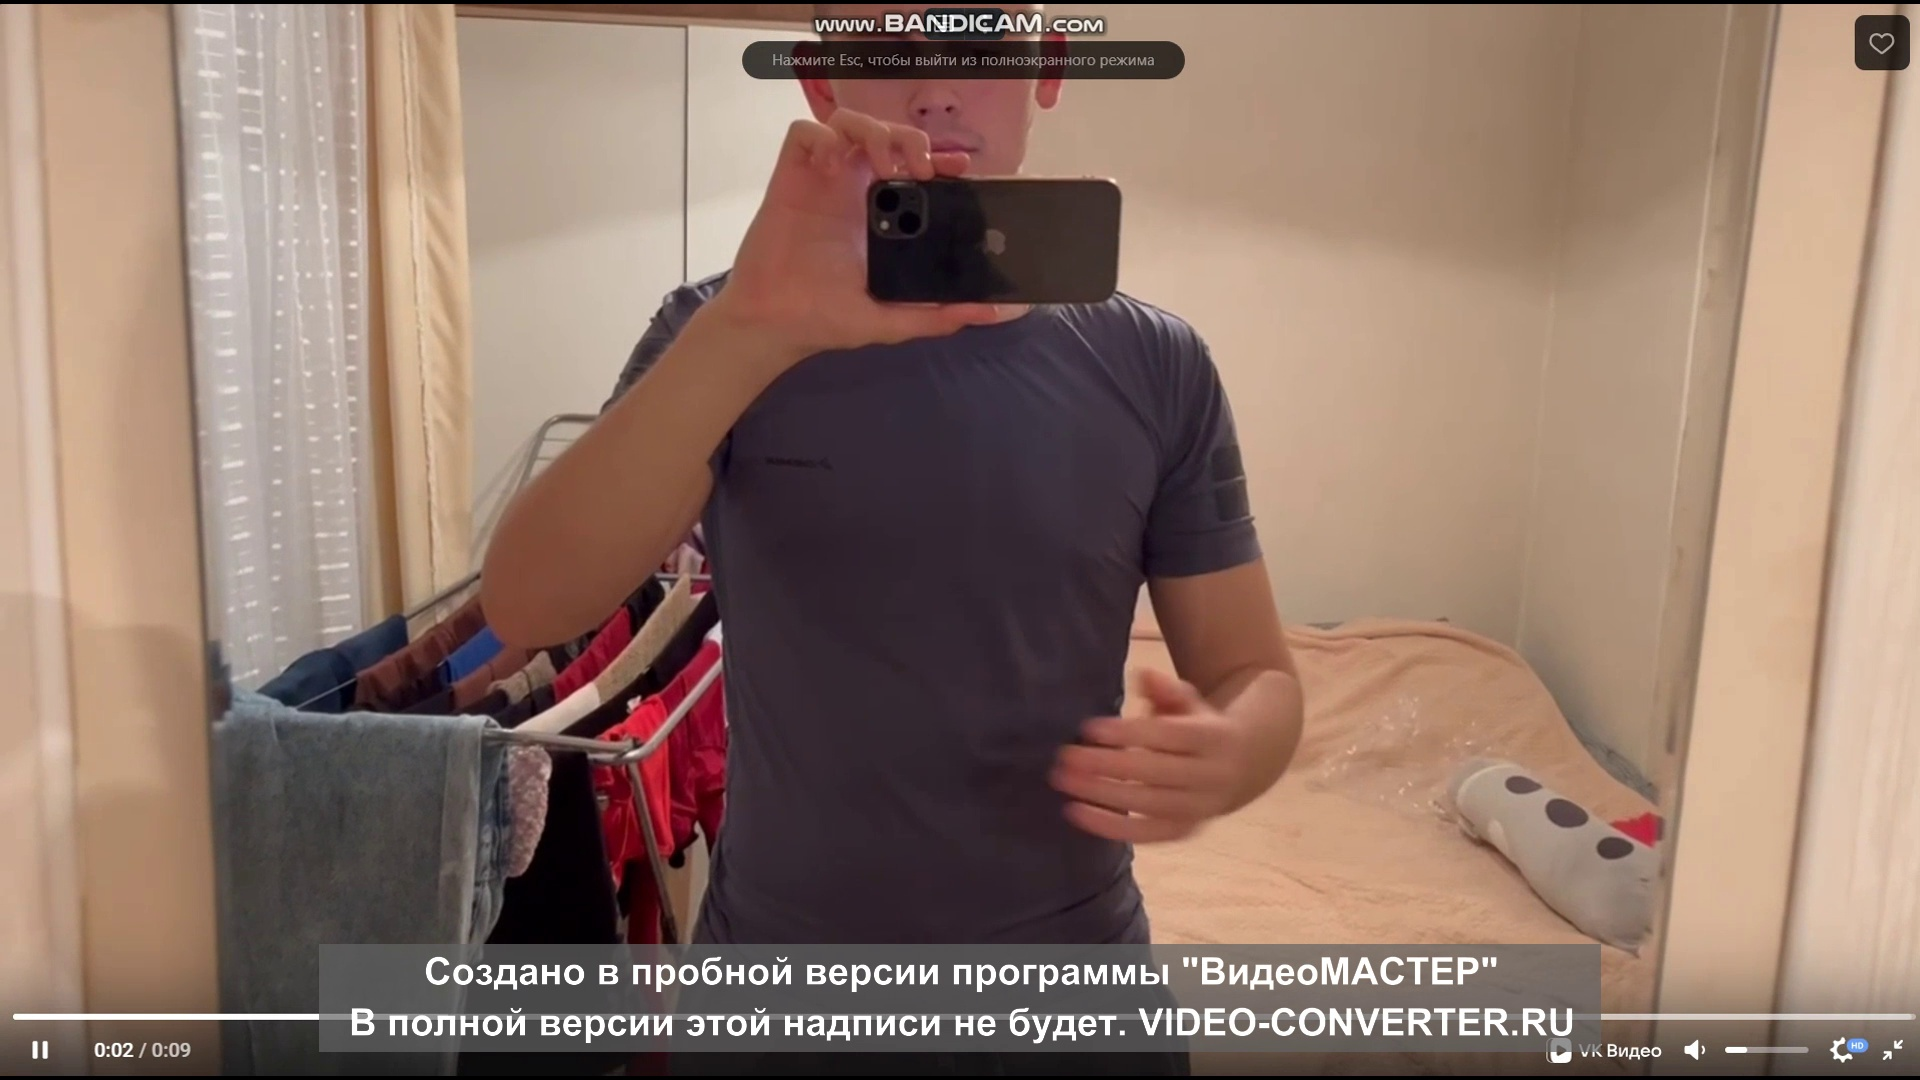Кисть: (1043, 655, 1229, 851)
